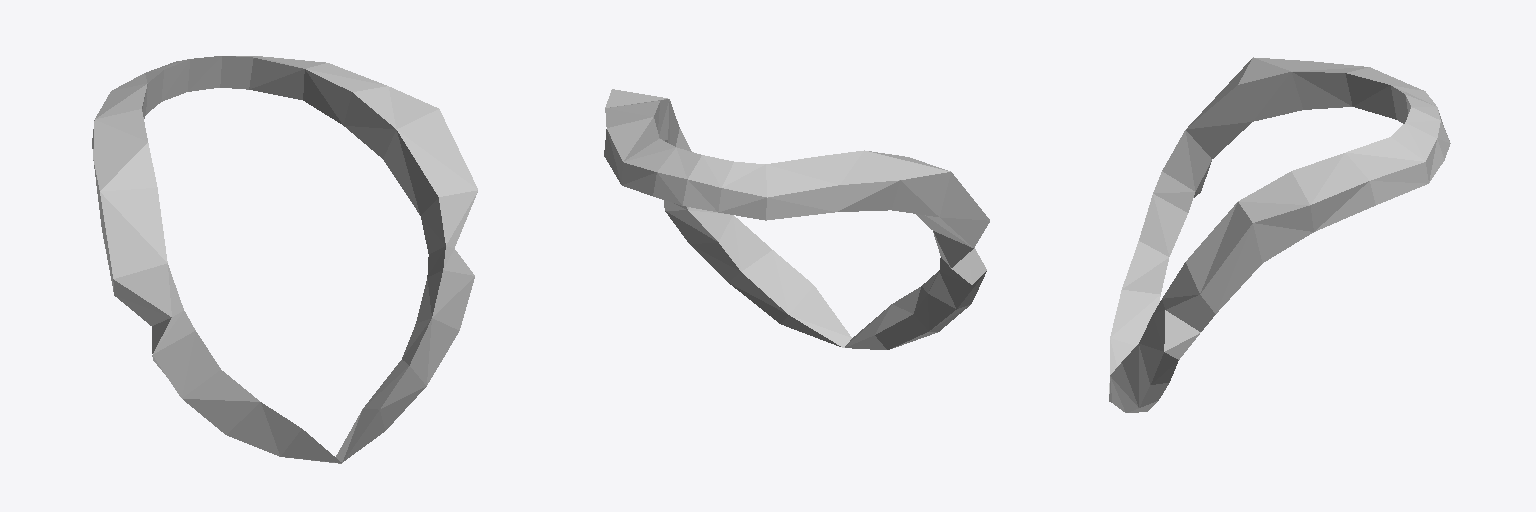
File: VestCaller.obj
The picture shows the model from 3 angles: view 1: azimuth 30°, elevation 25°; view 2: azimuth 150°, elevation 25°; view 3: azimuth 270°, elevation 25°; orthographic projection.
Bounding box in the file's own units: 29.24 × 22.81 × 23.67.